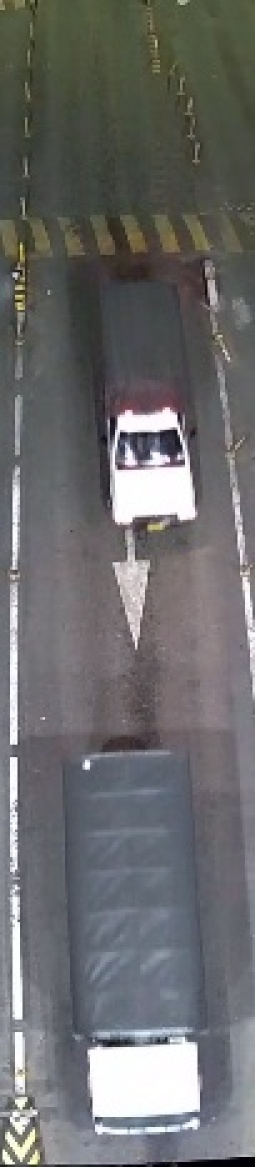truck: (37, 747, 223, 1154), (98, 281, 206, 547)
